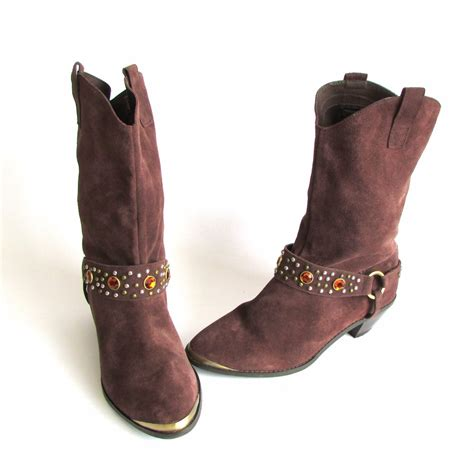gamuza: (70, 62, 442, 424)
